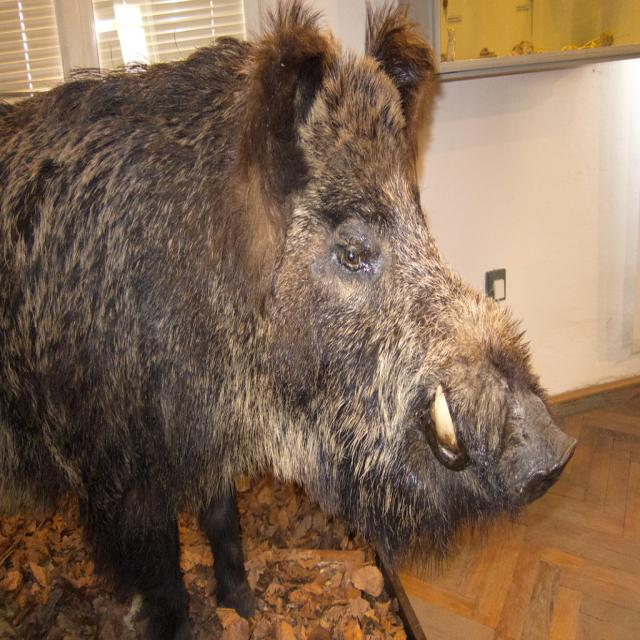Pig: (0, 0, 578, 640)
